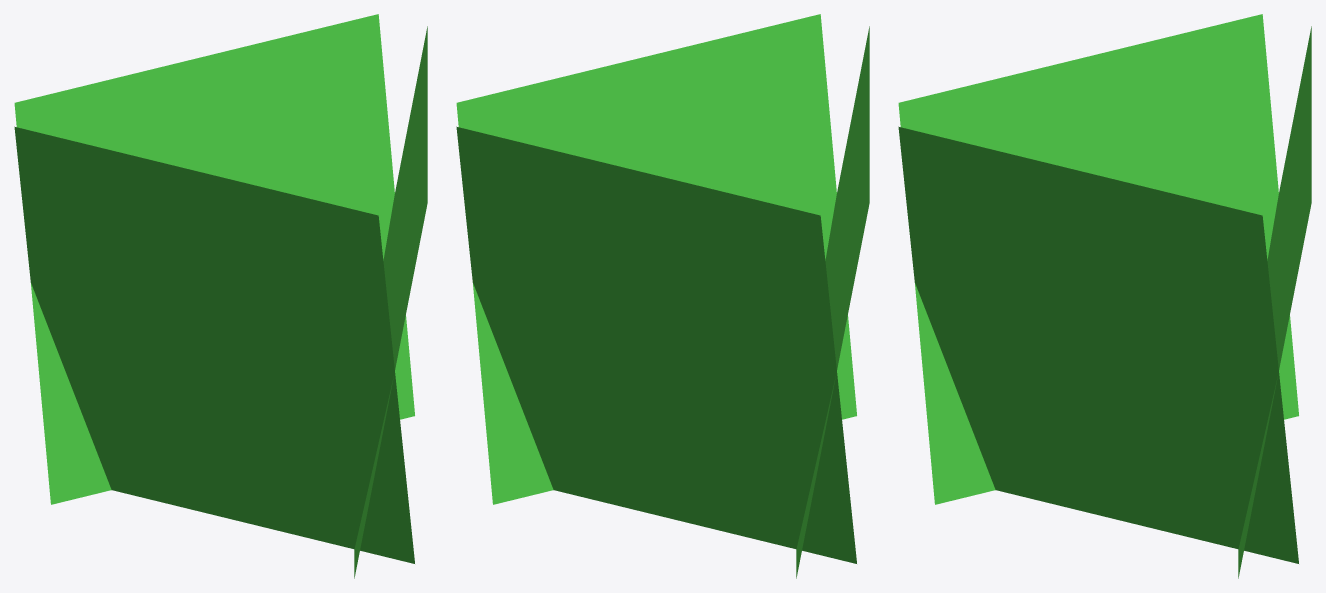
The model's file is Grass02.FBX.
The picture shows the model from 3 angles, left to right: view 1: azimuth 30°, elevation 25°; view 2: azimuth 150°, elevation 25°; view 3: azimuth 270°, elevation 25°; orthographic projection.
Visible parts, largest first — view 1: Grass003; view 2: Grass003; view 3: Grass003.
Boxes of the visible parts, x1,y1,x2,y2 form: Grass003: (14, 14, 427, 578); Grass003: (456, 14, 869, 578); Grass003: (898, 14, 1311, 578).
Bounding box in the file's own units: 56.7 × 49.24 × 49.11.
